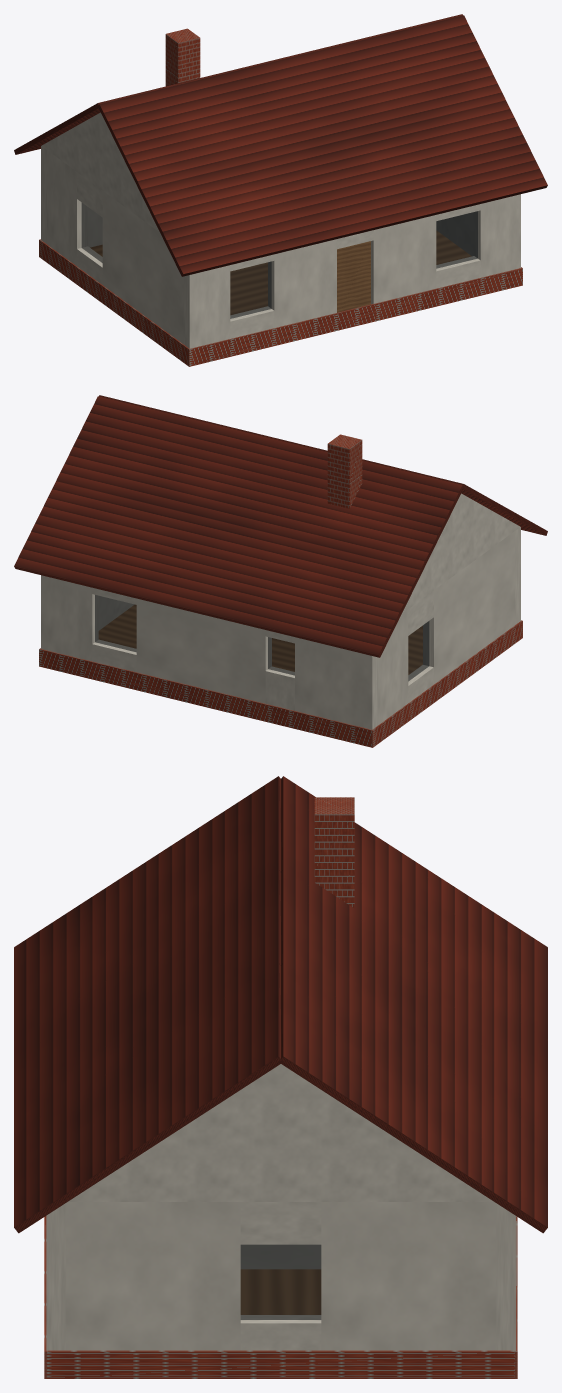
Rendered from house_L0.glb.
3 renders of one model, top to bottom at view 1: azimuth 30°, elevation 25°; view 2: azimuth 150°, elevation 25°; view 3: azimuth 270°, elevation 25°, orthographic. The views are drawn at different scales.
Parts seen in each view (by area): view 1: house:roof, house:plaster, house:brick, house:glass, house:frames; view 2: house:roof, house:plaster, house:brick, house:glass, house:frames; view 3: house:roof, house:plaster, house:brick, house:glass, house:frames.
Boxes of the visible parts, x1,y1,x2,y2 form: house:roof: (14, 14, 547, 276); house:plaster: (41, 112, 520, 348); house:brick: (39, 28, 522, 366); house:glass: (81, 203, 477, 318); house:frames: (90, 230, 471, 314); house:roof: (14, 395, 547, 657); house:plaster: (41, 493, 520, 729); house:brick: (39, 434, 522, 747); house:glass: (95, 595, 429, 681); house:frames: (98, 604, 422, 674); house:roof: (14, 776, 547, 1233); house:plaster: (46, 1064, 515, 1350); house:brick: (44, 797, 517, 1378); house:glass: (240, 1244, 321, 1319); house:frames: (240, 1269, 321, 1314).
Bounding box in the file's own units: 9.9 × 6.3 × 7.97.
5 materials, 4 textured.
